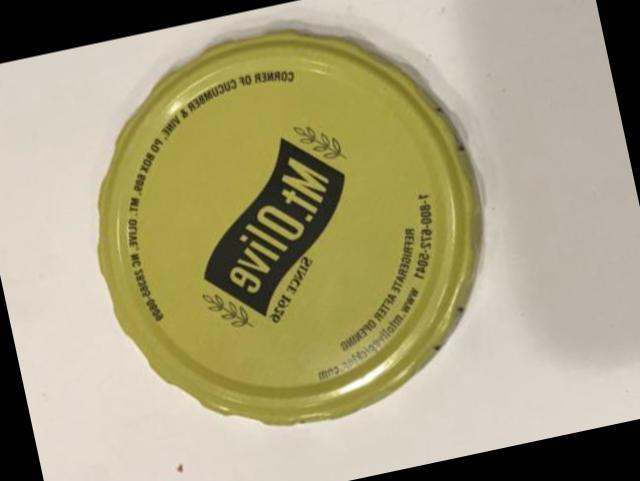metal: (97, 34, 480, 426)
